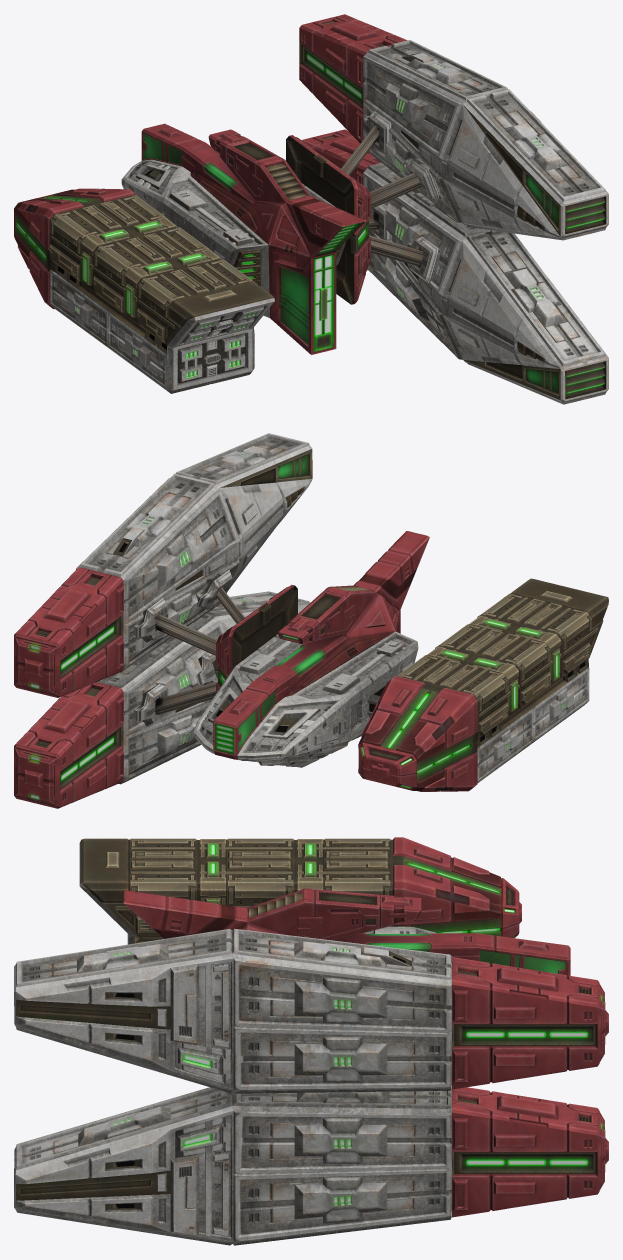
File: attack_carrier.glb
3 renders of one model, top to bottom at view 1: azimuth 30°, elevation 25°; view 2: azimuth 150°, elevation 25°; view 3: azimuth 270°, elevation 25°, orthographic. The views are drawn at different scales.
Parts seen in each view (by area): view 1: hangar, detail_0, missile_top, missile_bottom, missile_top_door, missile_bottom_door; view 2: hangar, detail_0, missile_top, missile_bottom, missile_top_door, missile_bottom_door, hangar_door; view 3: missile_top, missile_bottom, hangar, missile_top_door, missile_bottom_door, detail_0, hangar_door.
Part boxes in pixels (left/top/right/bottom): hangar: left=14, top=188, right=274, bottom=393; detail_0: left=121, top=123, right=370, bottom=354; missile_top: left=341, top=40, right=608, bottom=240; missile_bottom: left=363, top=163, right=608, bottom=404; missile_top_door: left=299, top=14, right=407, bottom=143; missile_bottom_door: left=302, top=129, right=381, bottom=184; hangar: left=358, top=578, right=608, bottom=791; detail_0: left=194, top=531, right=429, bottom=767; missile_top: left=76, top=433, right=312, bottom=672; missile_bottom: left=97, top=591, right=309, bottom=784; missile_top_door: left=14, top=567, right=123, bottom=697; missile_bottom_door: left=14, top=682, right=123, bottom=808; hangar_door: left=358, top=742, right=416, bottom=790; missile_top: left=14, top=928, right=451, bottom=1093; missile_bottom: left=14, top=1087, right=451, bottom=1245; hangar: left=79, top=837, right=501, bottom=944; missile_top_door: left=452, top=957, right=608, bottom=1089; missile_bottom_door: left=452, top=1087, right=608, bottom=1217; detail_0: left=123, top=888, right=570, bottom=976; hangar_door: left=501, top=878, right=521, bottom=938.
Size of the model in its own units: 61.45 by 39.24 by 71.85.
3 materials, 3 textured.
